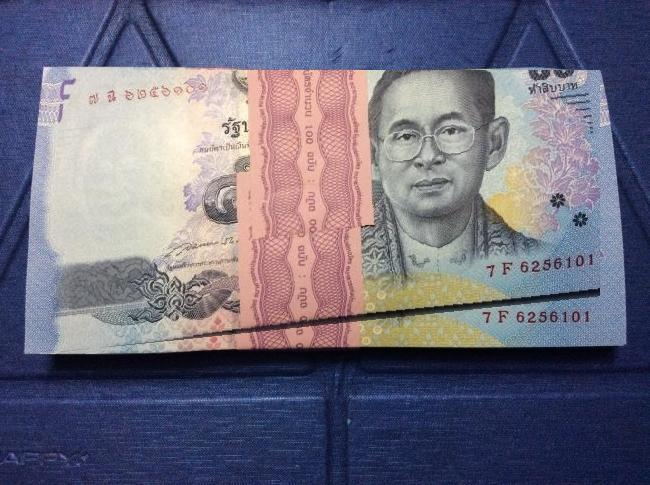50BahtTai: (39, 70, 600, 354)
